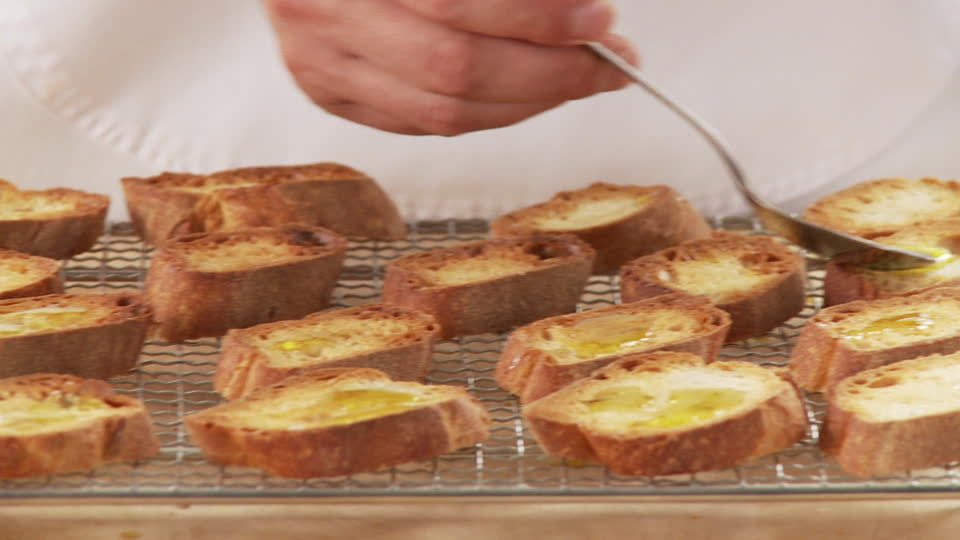slice of bread: (391, 216, 587, 335)
